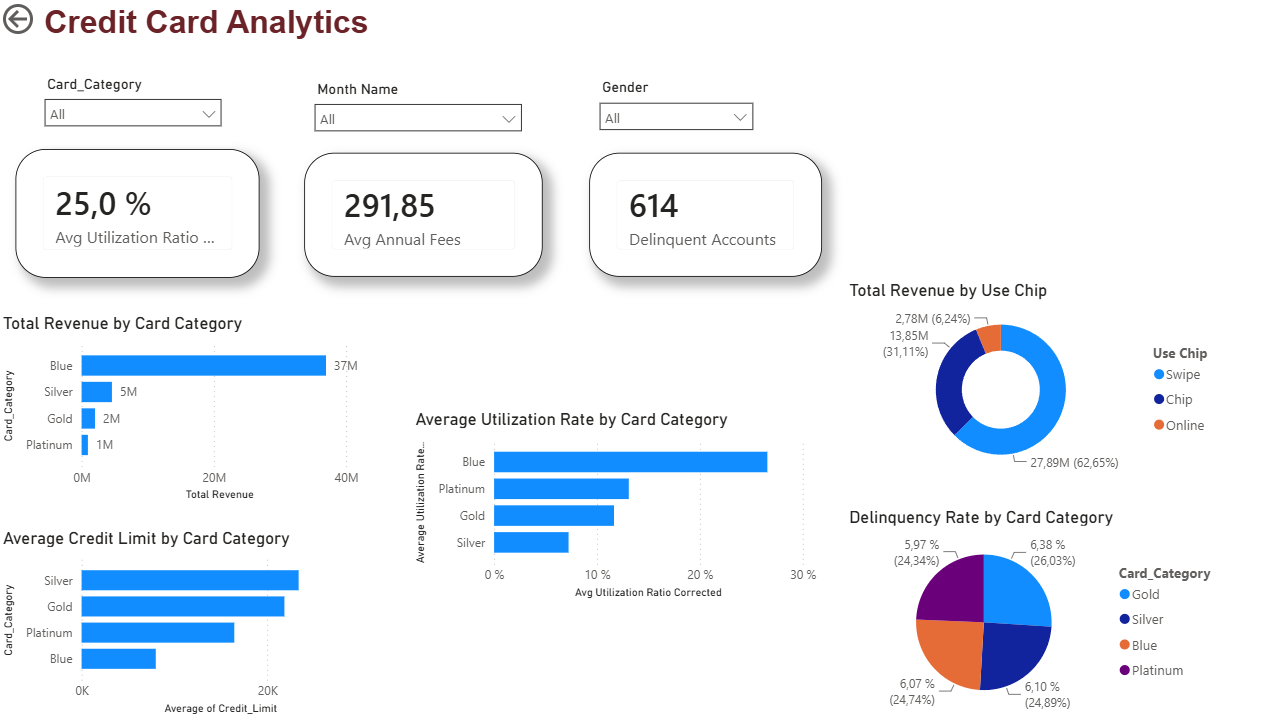

The page's visual inventory and layout, read from the dashboard file:
{"tool":"powerbi","page":{"name":"Credit Card Analytics","canvas":[1280,720],"ordinal":2},"visuals":[{"type":"clusteredBarChart","title":"Total Revenue by Card Category","fields":{"Y":["Measure.Total Revenue"],"Category":["credit_card.Card_Category"]},"box":[0,314.3,377.1,192.9],"z":0},{"type":"clusteredBarChart","title":"Average Credit Limit by Card Category","fields":{"Category":["credit_card.Card_Category"],"Y":["Avg(credit_card.Credit_Limit)"]},"box":[0,528.6,377.1,191.4],"z":1000},{"type":"clusteredBarChart","title":"Average Utilization Rate by Card Category","fields":{"Category":["credit_card.Card_Category"],"Y":["Measure.Avg Utilization Ratio Corrected"]},"box":[412.9,410,411.4,194.3],"z":2000},{"type":"donutChart","fields":{"Category":["credit_card.Use Chip"],"Y":["Measure.Total Revenue"]},"box":[845.7,281.4,388.6,200],"z":3000},{"type":"pieChart","title":"Delinquency Rate by Card Category","fields":{"Category":["credit_card.Card_Category"],"Y":["Measure.Delinquency Rate"]},"box":[845.7,507.1,388.6,212.9],"z":4000},{"type":"cardVisual","fields":{"Data":["Measure.Avg Utilization Ratio Corrected"]},"box":[17.1,150,244.3,128.6],"z":5000},{"type":"cardVisual","fields":{"Data":["Measure.Avg Annual Fees"]},"box":[305.7,154.3,238.6,124.3],"z":6000},{"type":"cardVisual","fields":{"Data":["Measure.Delinquent Accounts"]},"box":[591.4,154.3,232.9,124.3],"z":7000},{"type":"slicer","fields":{"Values":["DateTable.Month Name"]},"box":[306.2,76.2,227.5,65],"z":8000},{"type":"slicer","fields":{"Values":["credit_card.Card_Category"]},"box":[36.2,71.2,197.5,75],"z":9000},{"type":"slicer","fields":{"Values":["customer.Gender"]},"box":[591.2,75,173.8,63.8],"z":10000},{"type":"actionButton","box":[0,0,100,40],"z":11000},{"type":"textbox","box":[41.2,0,336.2,55],"z":12000}]}

Visuals, with their boxes in screenshot pixels (x1, y1, x2, y2), scaled from the page's 1280x720 canvas onto the 1267x716 screenshot:
"Total Revenue by Card Category" clusteredBarChart: [0,313,373,504]
"Average Credit Limit by Card Category" clusteredBarChart: [0,526,373,715]
"Average Utilization Rate by Card Category" clusteredBarChart: [409,408,816,601]
donutChart - credit_card.Use Chip x Measure.Total Revenue: [837,280,1222,479]
"Delinquency Rate by Card Category" pieChart: [837,504,1222,715]
cardVisual - Measure.Avg Utilization Ratio Corrected: [17,149,259,277]
cardVisual - Measure.Avg Annual Fees: [303,153,539,277]
cardVisual - Measure.Delinquent Accounts: [585,153,816,277]
slicer - DateTable.Month Name: [303,76,528,140]
slicer - credit_card.Card_Category: [36,71,231,145]
slicer - customer.Gender: [585,75,757,138]
actionButton: [0,0,99,40]
textbox: [41,0,374,55]
